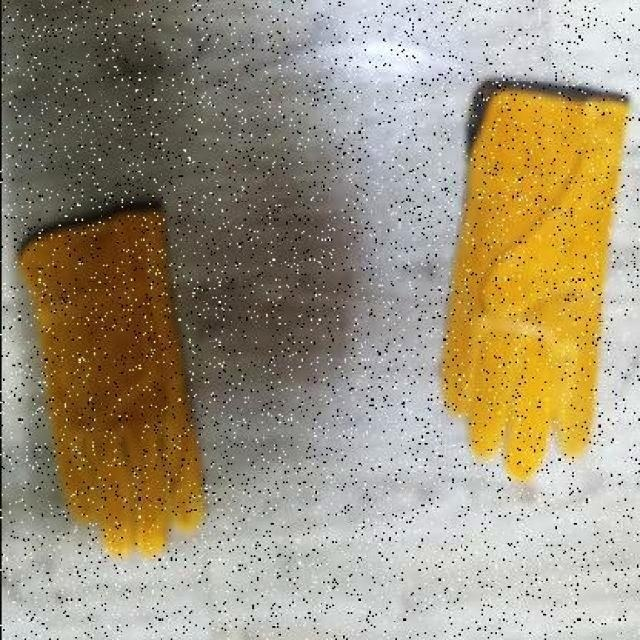Guantes: (16, 198, 207, 560)
